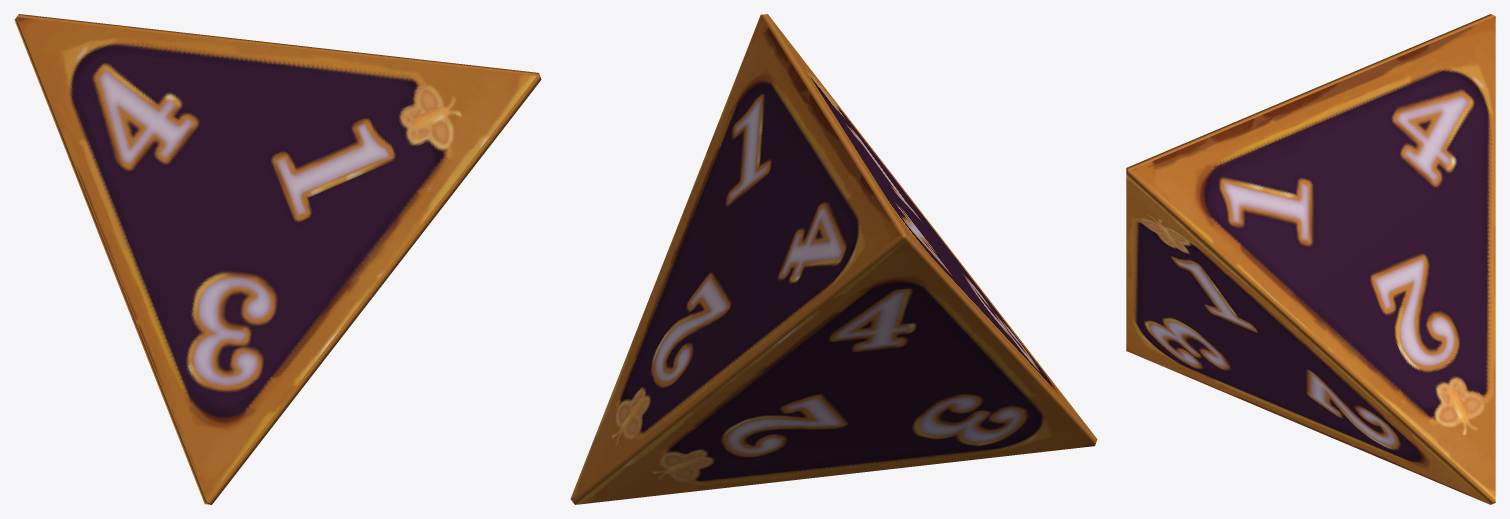
The model's file is d4-urikV2.glb.
The picture shows the model from 3 angles, left to right: view 1: azimuth 30°, elevation 25°; view 2: azimuth 150°, elevation 25°; view 3: azimuth 270°, elevation 25°; orthographic projection. The views are drawn at different scales.
Visible parts, largest first — view 1: Mesh_0; view 2: Mesh_0; view 3: Mesh_0.
Boxes of the visible parts, x1=… form: Mesh_0: x1=14, y1=14, x2=541, y2=504; Mesh_0: x1=570, y1=14, x2=1097, y2=504; Mesh_0: x1=1126, y1=14, x2=1495, y2=504.
Size of the model in its own units: 135 by 135 by 135.
Materials: 1 (1 with a texture image).
